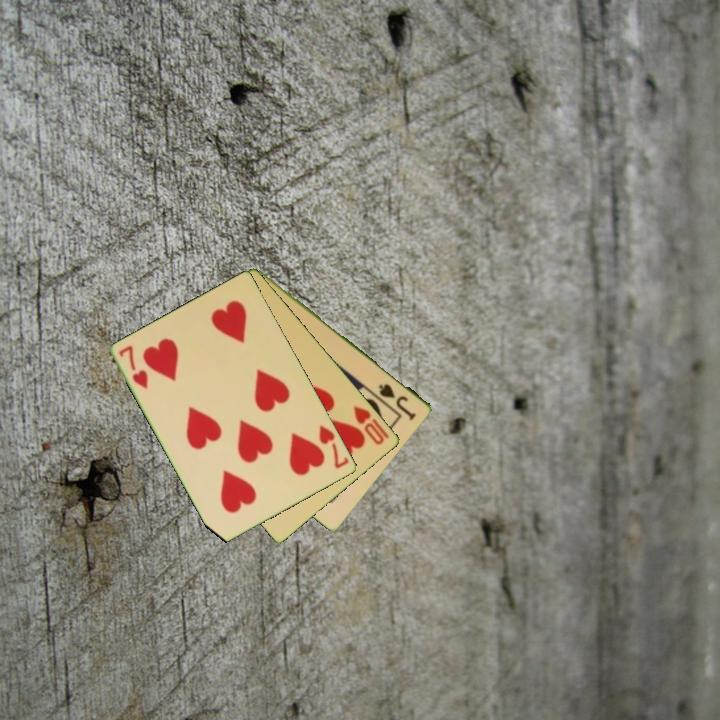10h: (350, 402, 393, 448)
7h: (316, 421, 352, 472), (115, 342, 151, 392)
Js: (375, 380, 419, 422)
